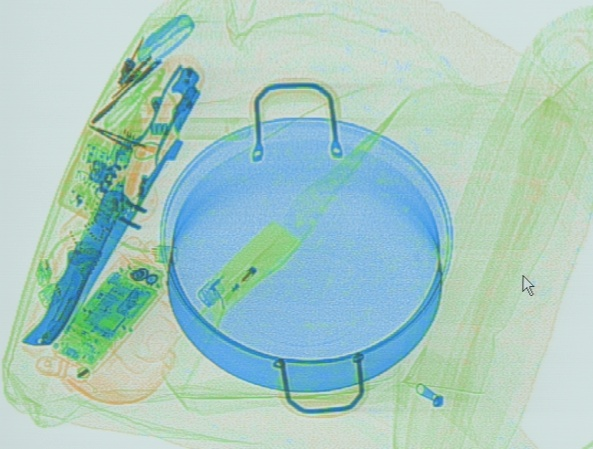knife: (20, 51, 206, 347), (41, 186, 132, 346)
lighter: (194, 220, 299, 314)
